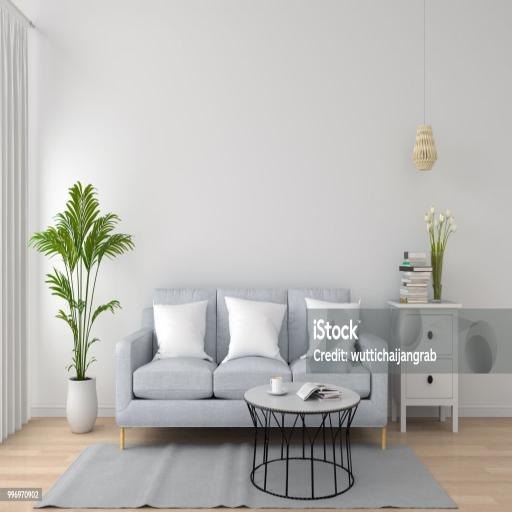back_cushion: (154, 290, 361, 372)
base: (116, 399, 252, 427), (352, 399, 386, 427)
left_arm: (360, 360, 388, 426), (356, 334, 388, 353)
legs: (382, 428, 386, 449), (120, 428, 124, 449)
right_arm: (116, 328, 152, 424)
seat_cushion: (133, 357, 370, 399)
stallion-sofa2: (116, 289, 388, 449)
